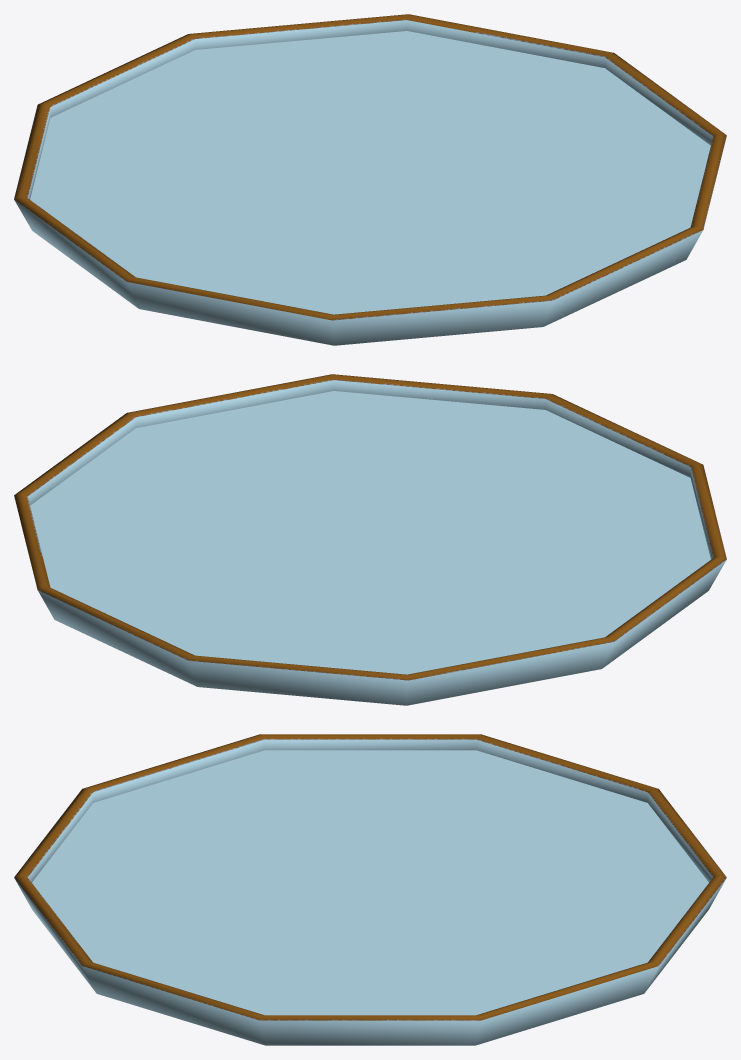
The model's file is plato.fbx.
3 renders of one model, top to bottom at view 1: azimuth 30°, elevation 25°; view 2: azimuth 150°, elevation 25°; view 3: azimuth 270°, elevation 25°, orthographic. The views are drawn at different scales.
Visible parts, largest first — view 1: plato; view 2: plato; view 3: plato.
Boxes of the visible parts, bbox=[...] form: plato: bbox=[14, 14, 726, 345]; plato: bbox=[14, 374, 726, 705]; plato: bbox=[14, 734, 726, 1045].
Bounding box in the file's own units: 408 × 23.09 × 429.
